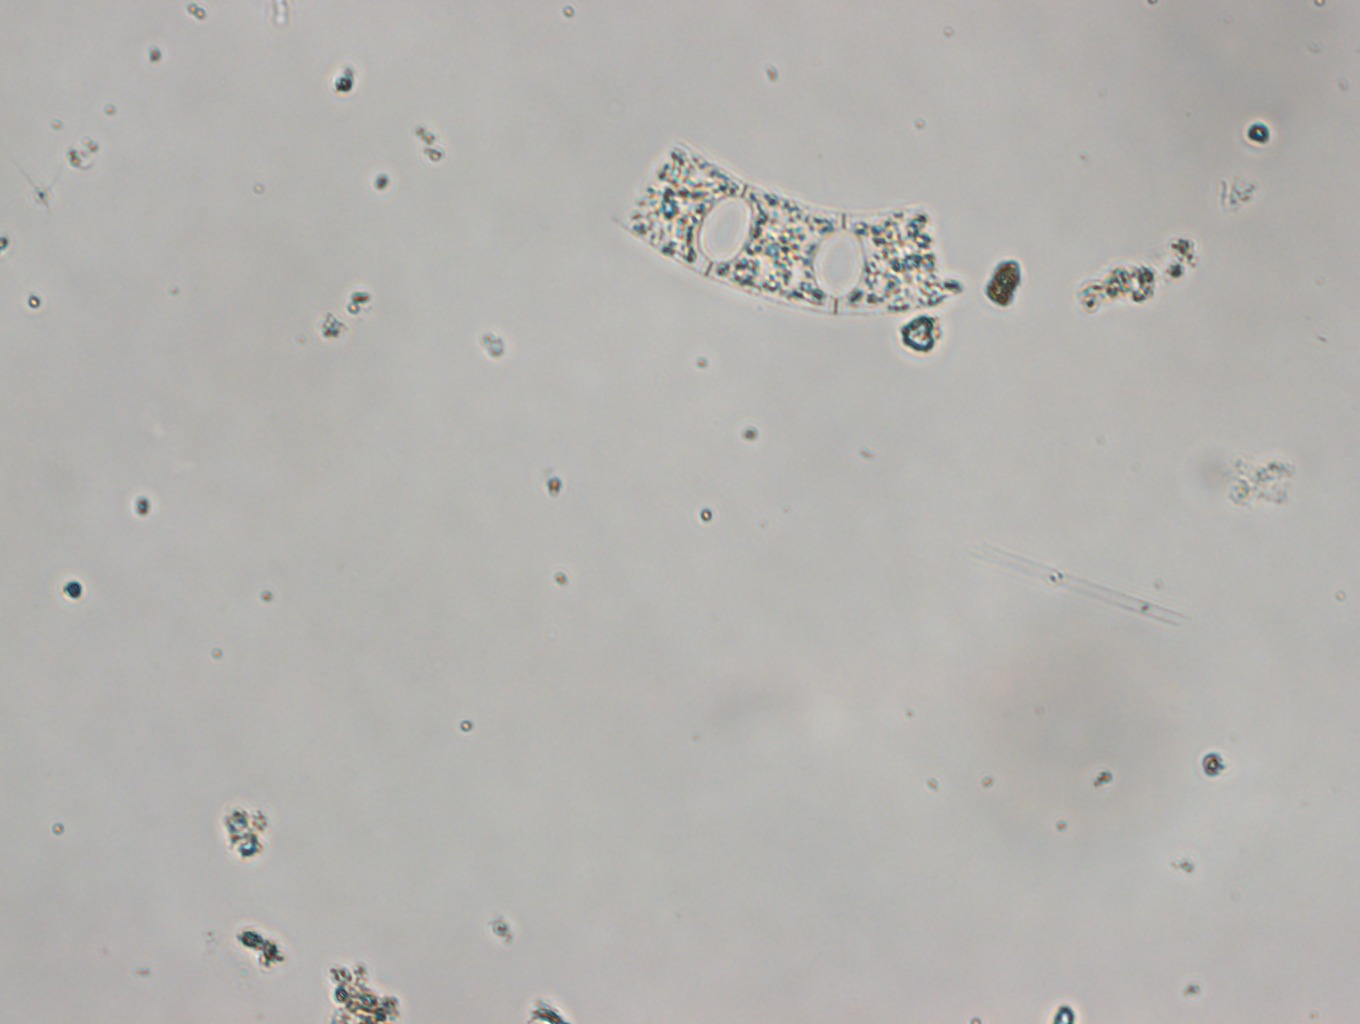eucampia: (616, 146, 968, 321)
